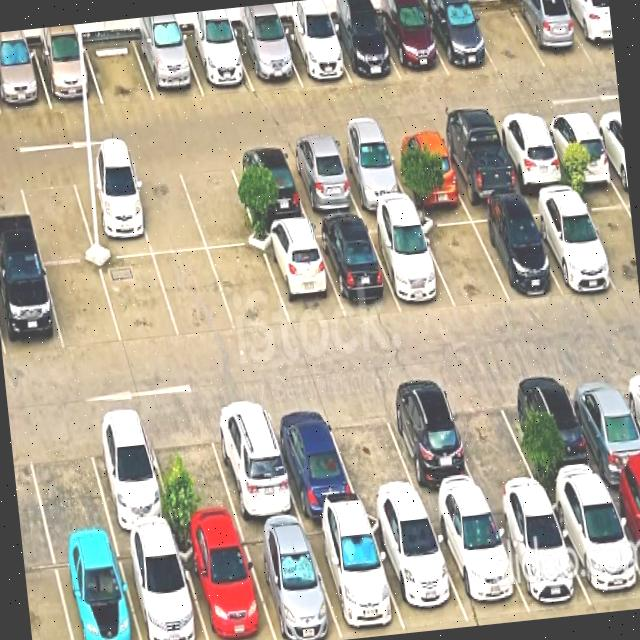empty: (443, 375, 542, 498), (144, 410, 240, 532), (323, 391, 422, 508), (23, 418, 113, 545), (416, 210, 509, 307), (176, 152, 259, 249), (127, 160, 206, 254), (17, 169, 95, 263), (154, 250, 236, 338), (99, 254, 179, 344), (208, 245, 290, 331), (44, 261, 121, 351), (576, 187, 639, 290), (465, 0, 545, 74), (84, 36, 154, 104)
occupied: (380, 382, 485, 506), (303, 513, 405, 639), (486, 494, 591, 613), (426, 500, 529, 621), (238, 522, 342, 640), (366, 509, 468, 628), (205, 398, 301, 524), (546, 484, 640, 612), (264, 398, 360, 517), (512, 369, 605, 491), (83, 413, 175, 536), (176, 527, 275, 640), (116, 533, 207, 640), (523, 192, 617, 292), (563, 365, 640, 483), (51, 539, 140, 640), (468, 203, 560, 300), (259, 224, 345, 327), (312, 218, 400, 317), (364, 215, 455, 308), (70, 165, 152, 258), (436, 123, 520, 202), (228, 147, 309, 227), (282, 141, 361, 219), (0, 260, 63, 357), (331, 136, 410, 211), (384, 130, 465, 203), (493, 116, 569, 191), (509, 0, 592, 67), (541, 111, 617, 184), (375, 6, 448, 80), (422, 4, 497, 75), (326, 14, 400, 83), (180, 31, 254, 96), (33, 41, 102, 109), (133, 33, 203, 100), (278, 22, 351, 86), (233, 27, 301, 91), (0, 46, 51, 114), (559, 0, 614, 61), (605, 478, 640, 570)
